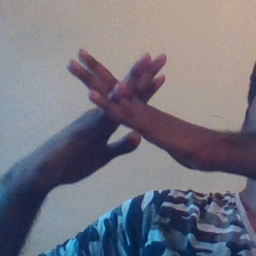W: (61, 40, 188, 168)
